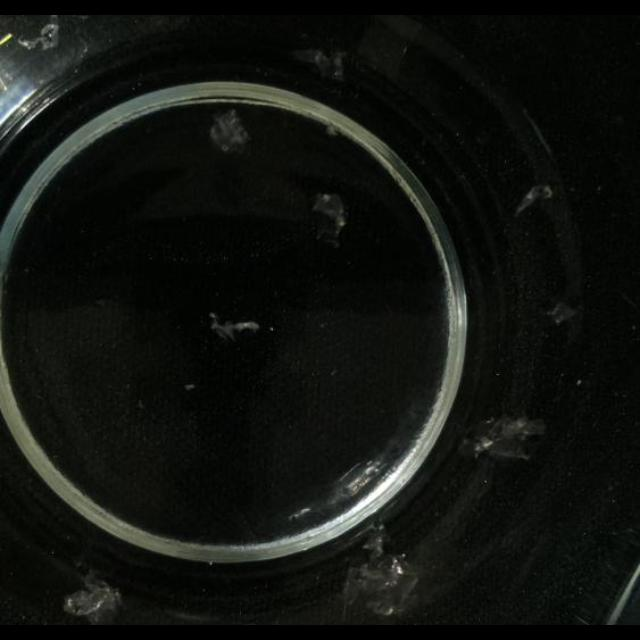Fibre: (343, 531, 419, 619), (464, 414, 546, 462), (64, 572, 122, 622), (310, 192, 348, 244), (296, 46, 348, 82), (208, 313, 260, 343), (514, 184, 552, 216), (546, 301, 578, 327), (322, 122, 340, 136)
microbeads: (183, 383, 195, 391)
